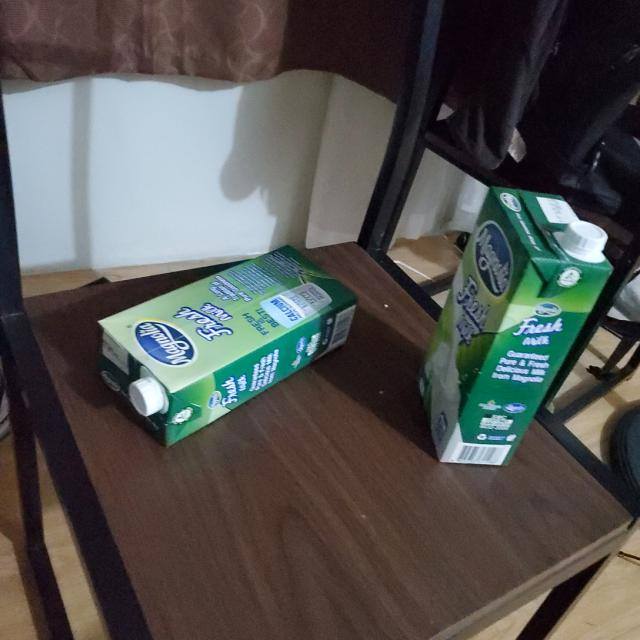milk: (414, 185, 616, 469), (100, 245, 362, 454)
